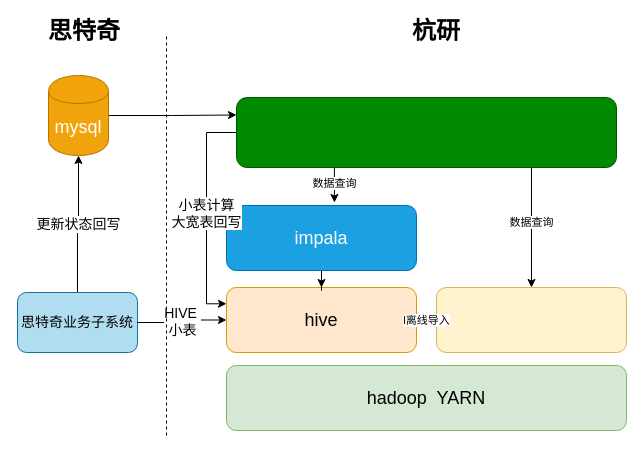
Some shapes in this 644 by 454 pixel diagram are drawn without their labels. Here are the shapes that lost their labels. From the top down, the centre of each, then its label:
(x=426, y=132): 电渠标签平台
(x=531, y=319): hbase
